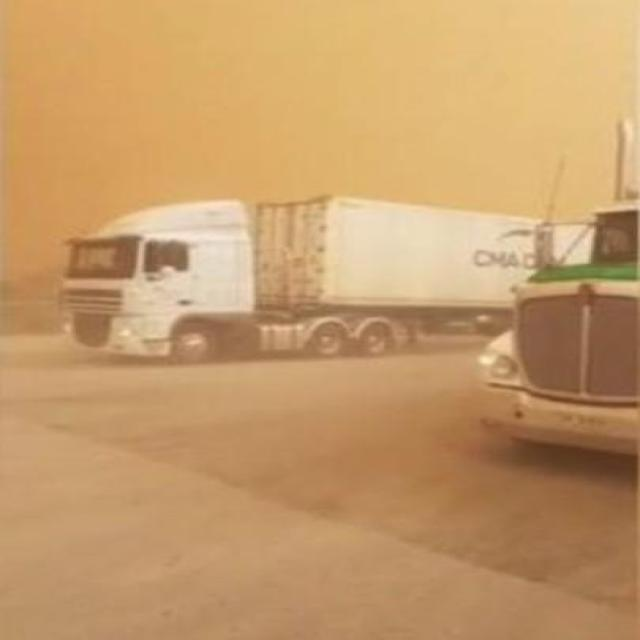Truck: (56, 181, 640, 358)
